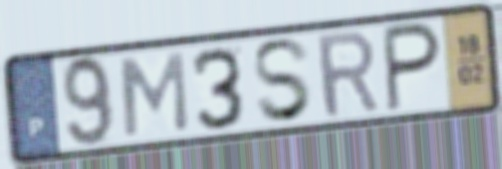3: (190, 44, 248, 133)
9: (61, 53, 118, 152)
M: (117, 48, 192, 139)
P: (380, 19, 444, 116)
R: (313, 27, 383, 122)
S: (250, 35, 316, 126)
